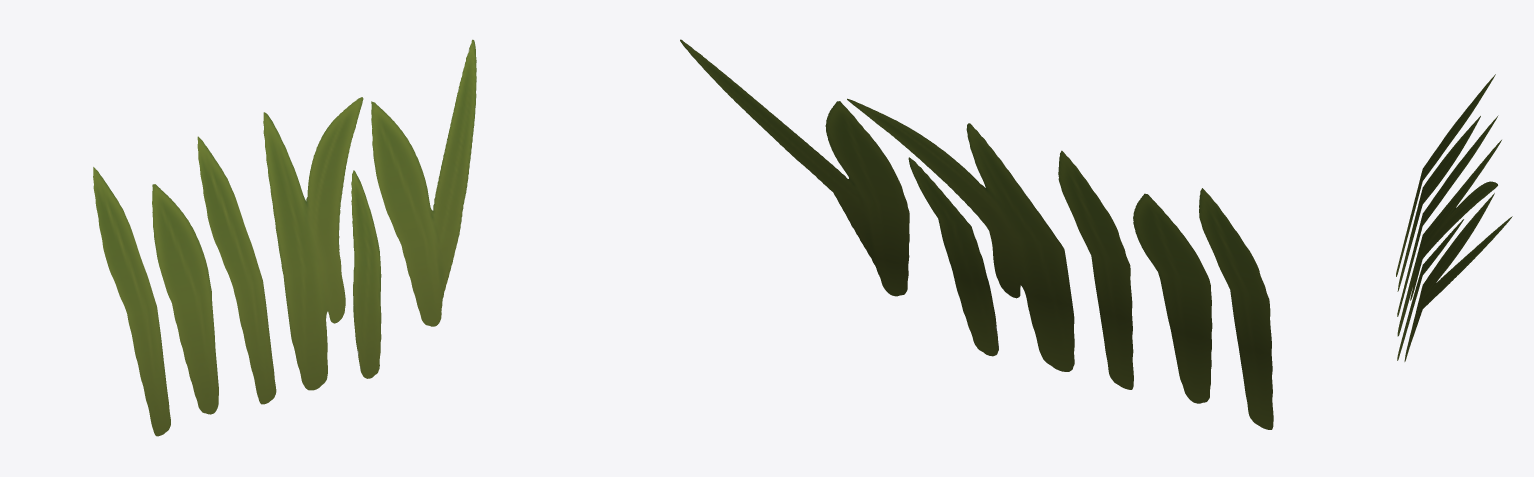
File: grass_5.FBX
3 views of the same model, side by side, from view 1: azimuth 30°, elevation 25°; view 2: azimuth 150°, elevation 25°; view 3: azimuth 270°, elevation 25° (orthographic). The views are drawn at different scales.
Visible parts, largest first — view 1: Grass-5; view 2: Grass-5; view 3: Grass-5.
Part boxes in pixels (<box>): Grass-5: <box>93,39,476,436</box>; Grass-5: <box>680,39,1273,429</box>; Grass-5: <box>1396,74,1512,361</box>.
Bounding box in the file's own units: 45.56 × 23.82 × 11.45.
